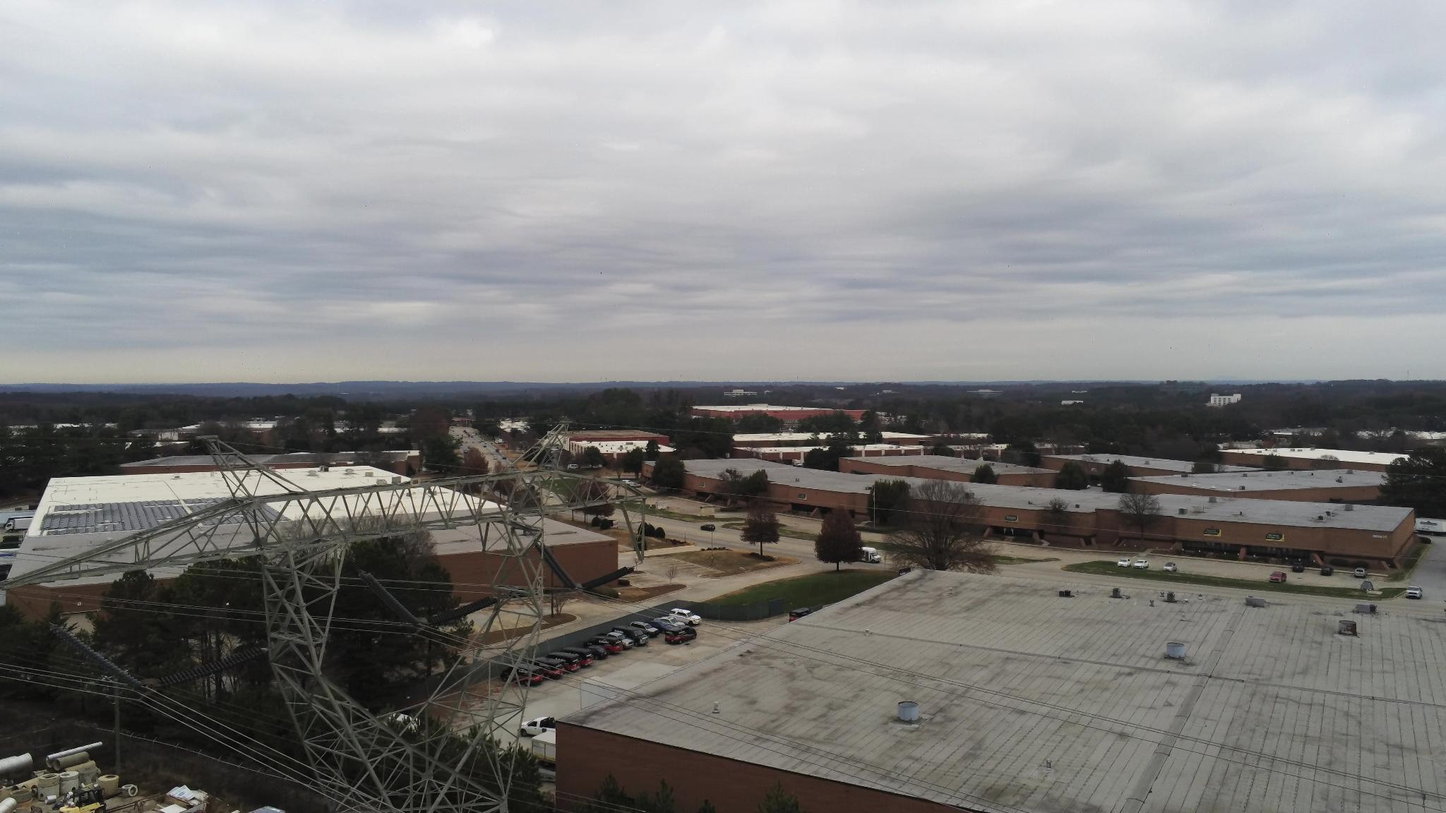tower: (0, 420, 657, 812)
